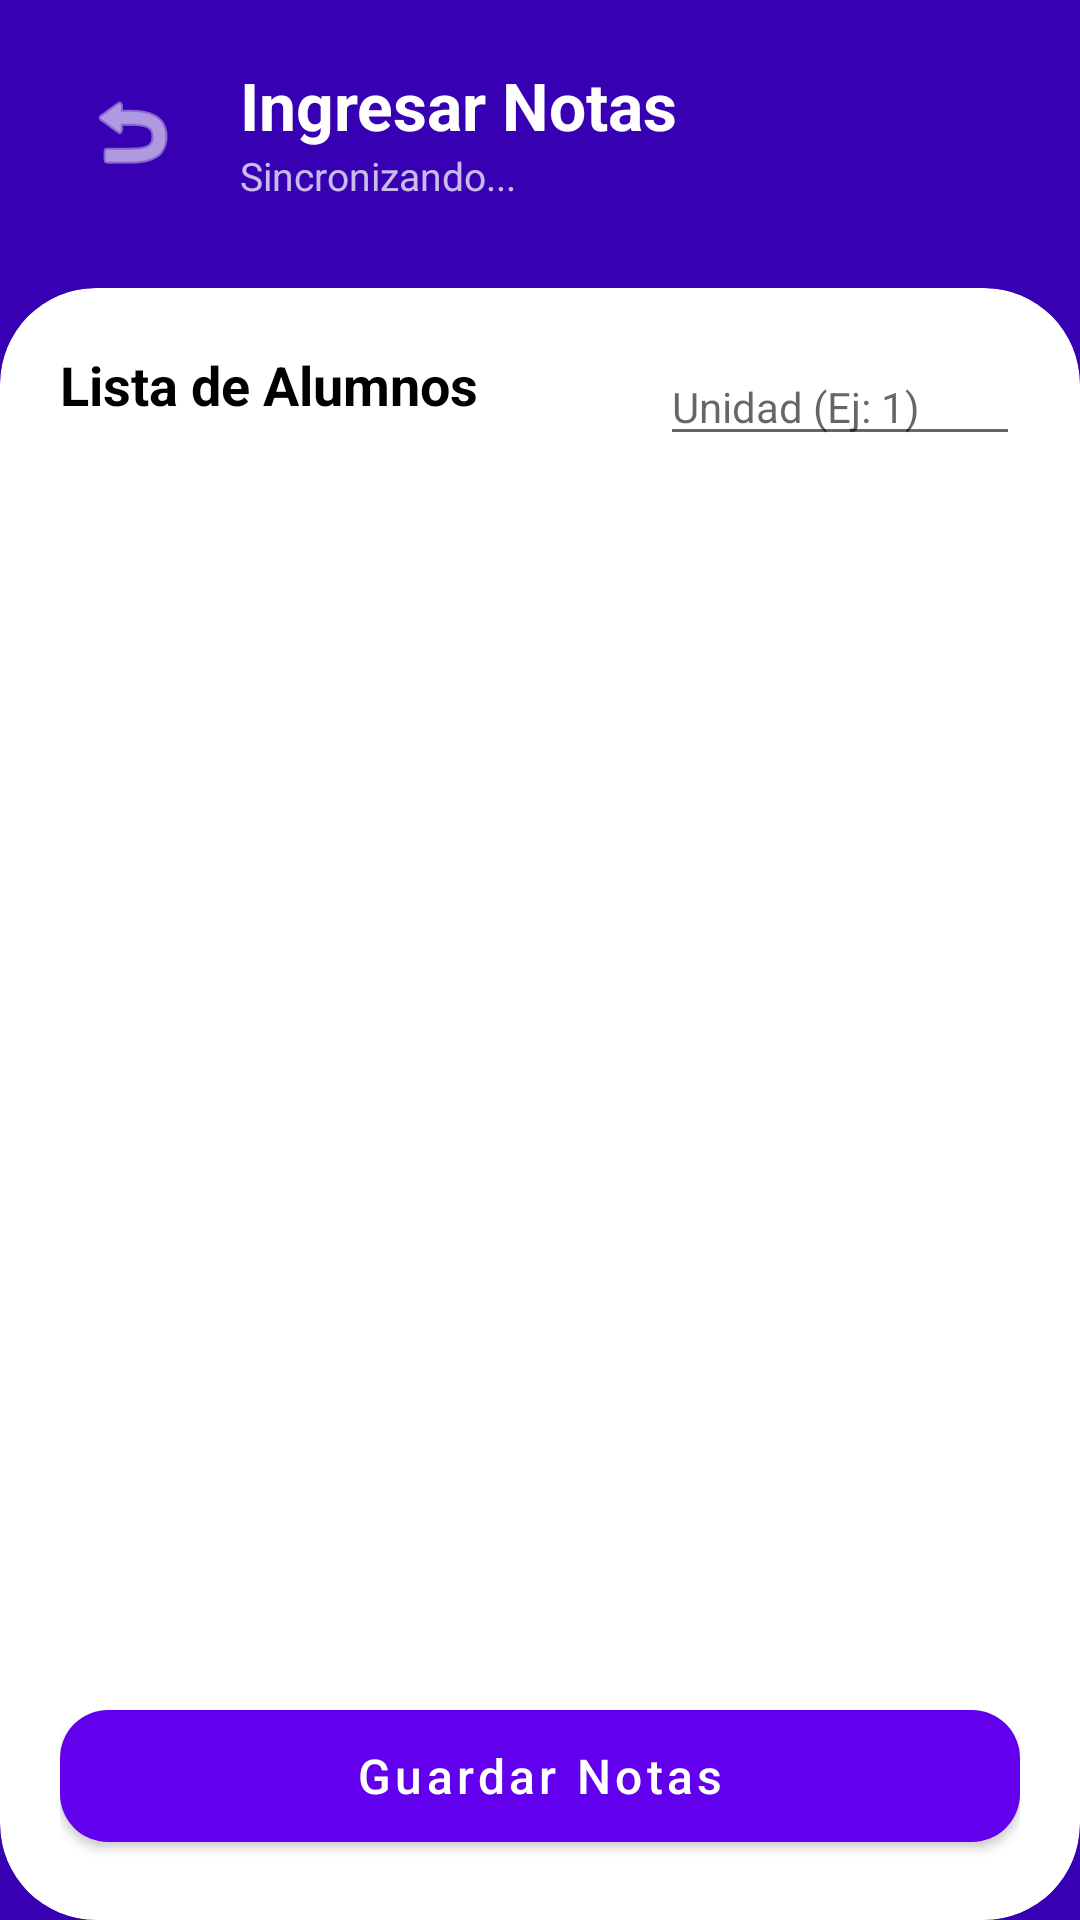

Icon click points for this 1080 × 1920 phone screenshot, format point (x, y):
Volver: point (133, 132)
